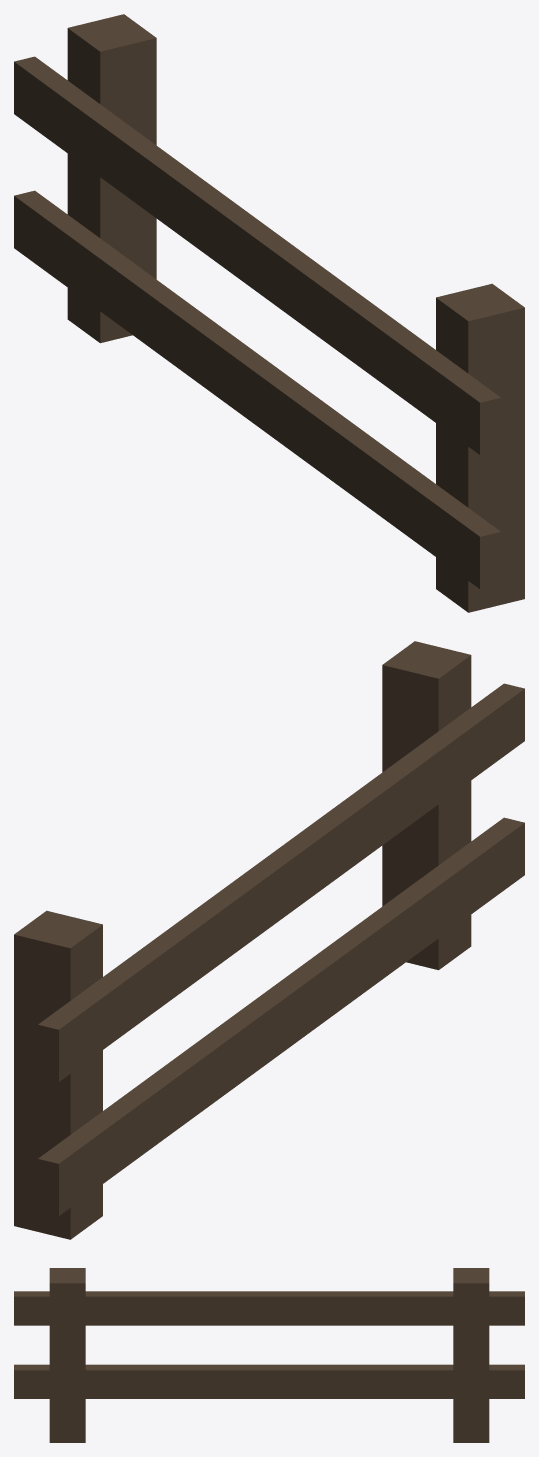
Rendered from rn_fence.glb.
3 renders of one model, top to bottom at view 1: azimuth 30°, elevation 25°; view 2: azimuth 150°, elevation 25°; view 3: azimuth 270°, elevation 25°, orthographic. The views are drawn at different scales.
Parts seen in each view (by area): view 1: rn_fence; view 2: rn_fence; view 3: rn_fence.
Part boxes in pixels (x1,y1,x2,y2): rn_fence: (14,14,524,612); rn_fence: (14,641,524,1239); rn_fence: (14,1268,524,1442).
Size of the model in its own units: 0.2399 by 0.8625 by 2.5.
